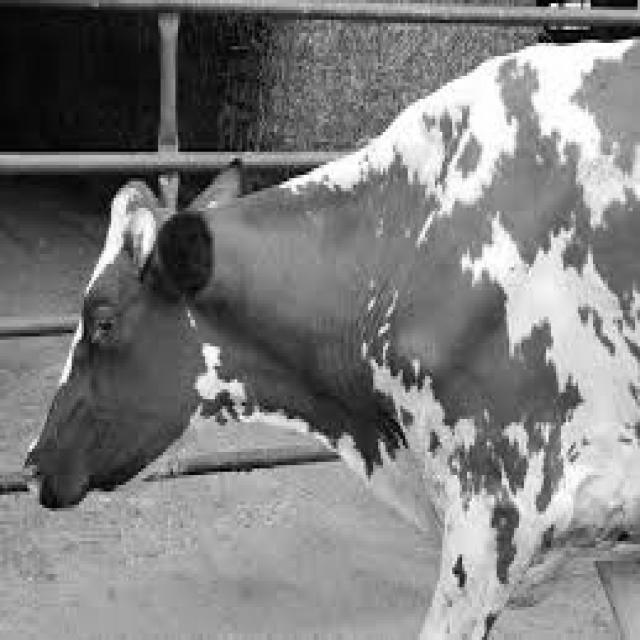Cow: (18, 29, 638, 636)
